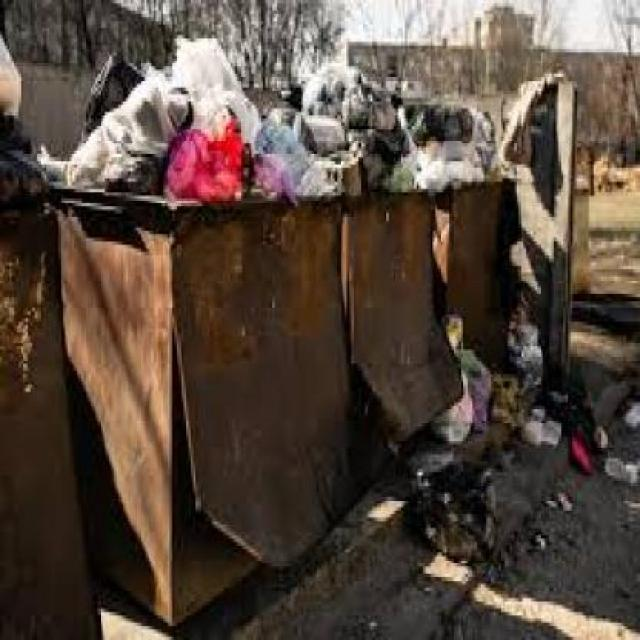garbage: (187, 294, 606, 577), (77, 42, 490, 189)
